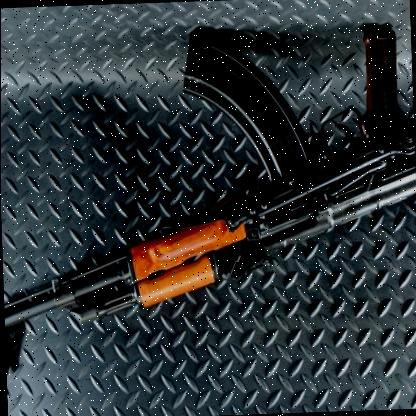rifle: (0, 22, 416, 367)
